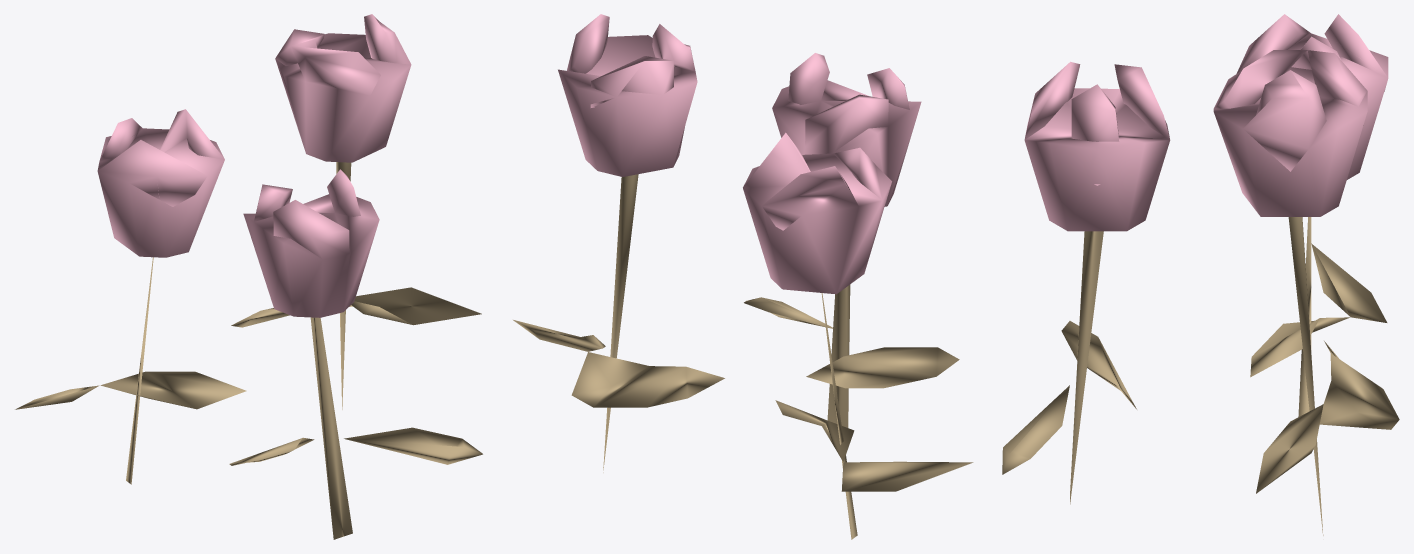
File: flower_0_autumn_low.glb
3 views of the same model, side by side, from view 1: azimuth 30°, elevation 25°; view 2: azimuth 150°, elevation 25°; view 3: azimuth 270°, elevation 25° (orthographic). The views are drawn at different scales.
Bounding box in the file's own units: 0.5021 × 0.4589 × 0.3292.
